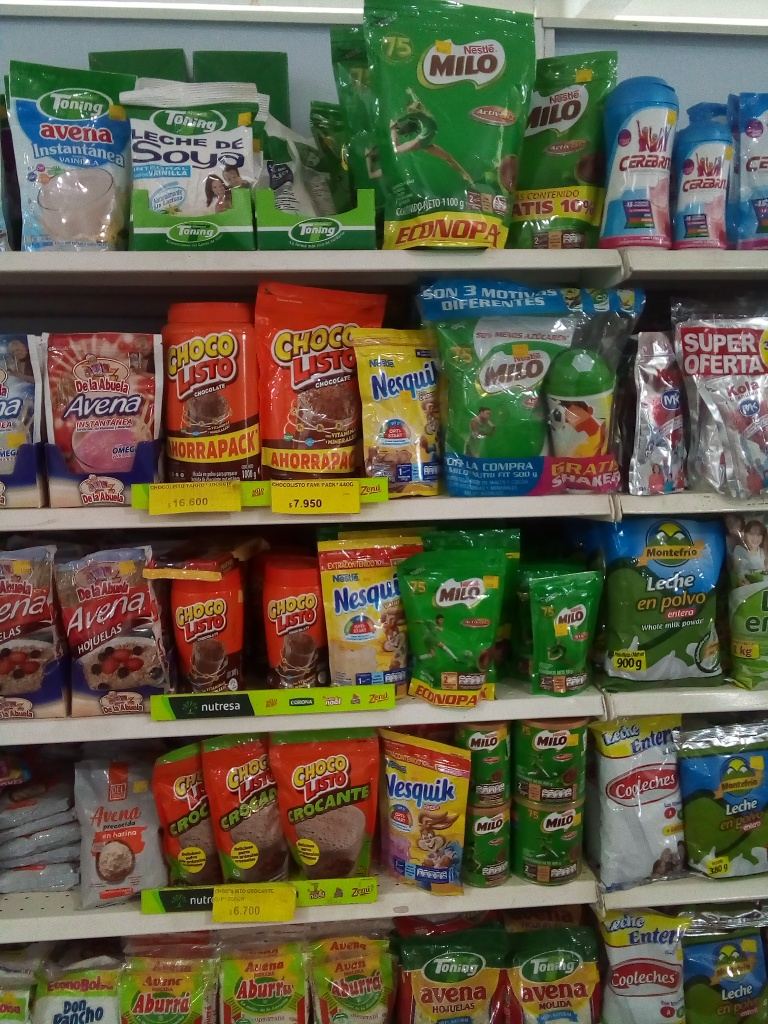COL0170103DYP44000: (254, 281, 383, 481)
COL0170103TRR00100: (162, 295, 255, 479)
COL0170203DYP10000: (522, 571, 597, 693)
COL0170203LAT20000: (463, 804, 513, 884)
COL0170203LAT40000: (515, 717, 591, 804)
COL0170205DYP50000: (433, 315, 561, 458)
COL0170303DYP20000: (348, 324, 443, 494)
